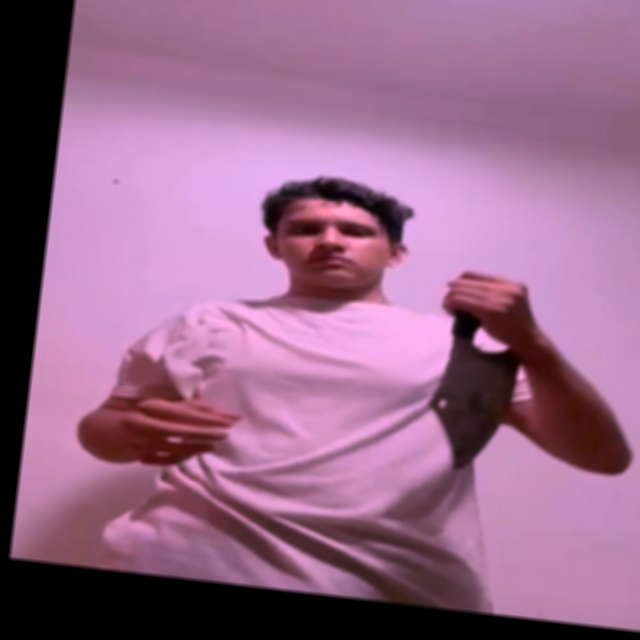Sharp-Object: (430, 334, 522, 469)
